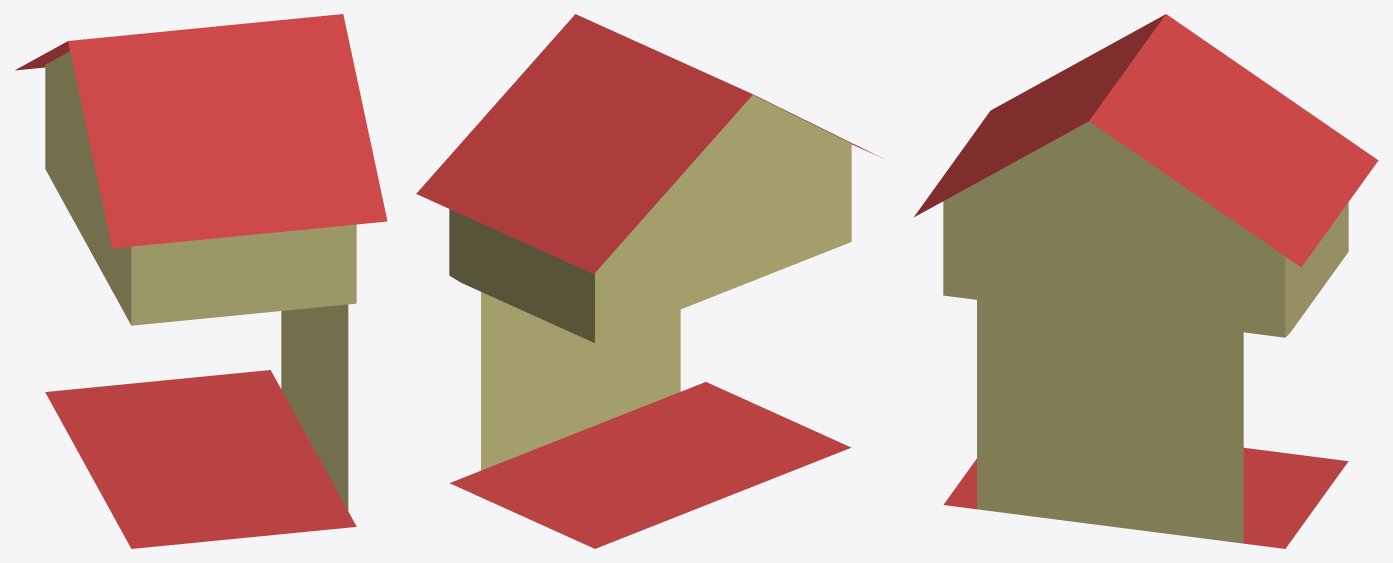
3 renders of one model, left to right at view 1: azimuth 30°, elevation 25°; view 2: azimuth 150°, elevation 25°; view 3: azimuth 270°, elevation 25°, orthographic. The views are drawn at different scales.
Bounding box in the file's own units: 11.62 × 14.54 × 14.25.
